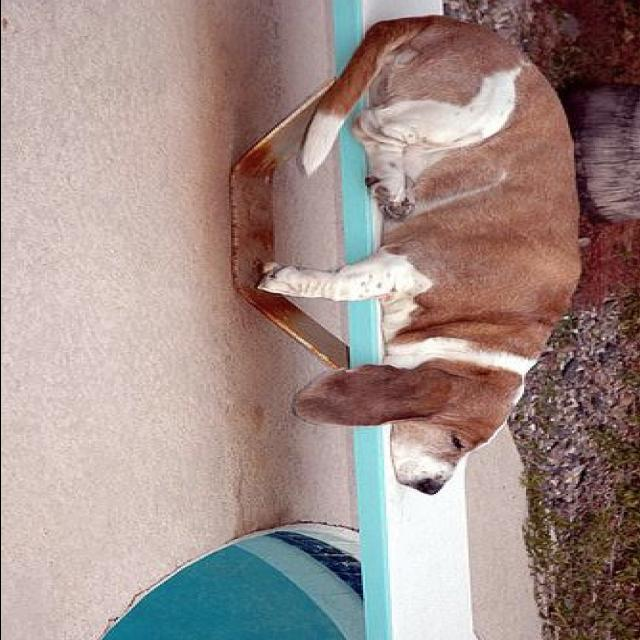basset: (262, 16, 584, 498)
